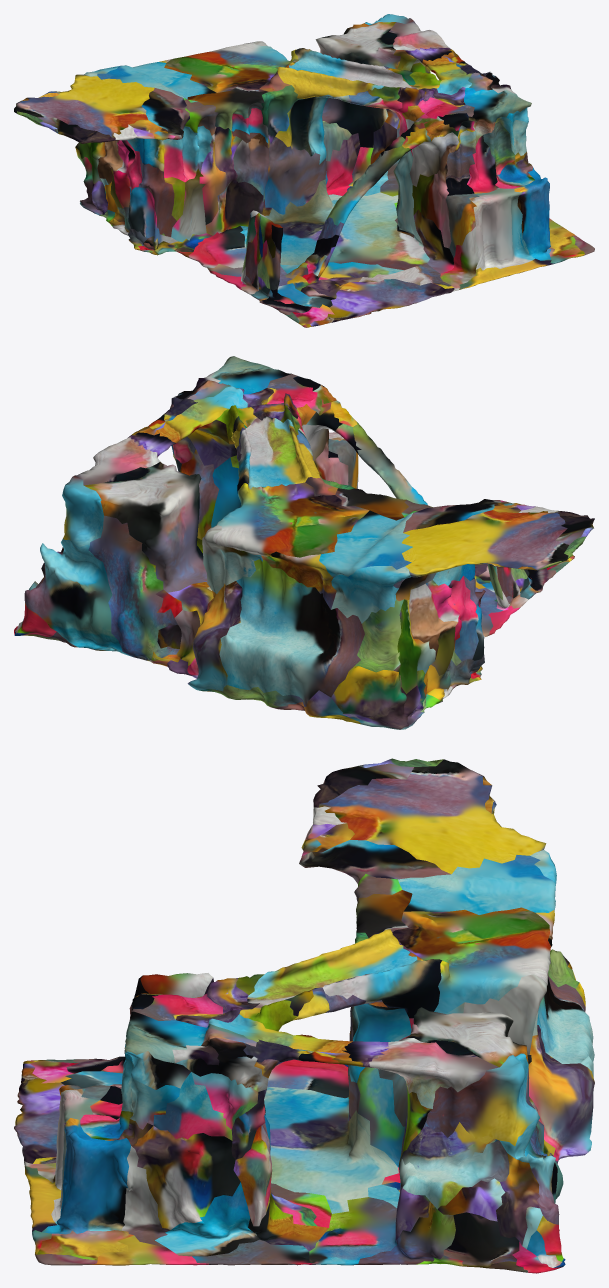
File: Burg_mit_Bruecke.fbx
3 renders of one model, top to bottom at view 1: azimuth 30°, elevation 25°; view 2: azimuth 150°, elevation 25°; view 3: azimuth 270°, elevation 25°, orthographic. The views are drawn at different scales.
Parts seen in each view (by area): view 1: 3DModel.001; view 2: 3DModel.001; view 3: 3DModel.001.
Boxes of the visible parts, bbox=[...] form: 3DModel.001: bbox=[14, 14, 594, 327]; 3DModel.001: bbox=[14, 356, 594, 729]; 3DModel.001: bbox=[14, 758, 594, 1273].
Bounding box in the file's own units: 8828 × 2857 × 7039.
